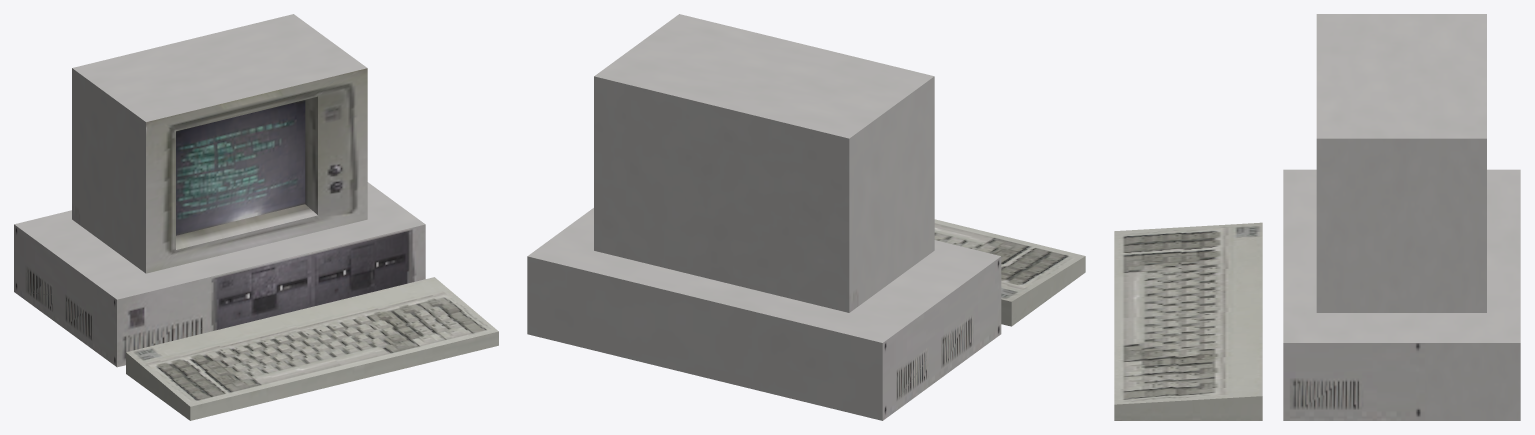
Rendered from Computer.FBX.
3 renders of one model, left to right at view 1: azimuth 30°, elevation 25°; view 2: azimuth 150°, elevation 25°; view 3: azimuth 270°, elevation 25°, orthographic. The views are drawn at different scales.
Parts seen in each view (by area): view 1: Box002; view 2: Box002; view 3: Box002.
Boxes of the visible parts, <box> form: Box002: <box>14,14,498,420</box>; Box002: <box>527,14,1085,420</box>; Box002: <box>1114,14,1520,420</box>.
Bounding box in the file's own units: 41.29 × 28.63 × 40.84.
